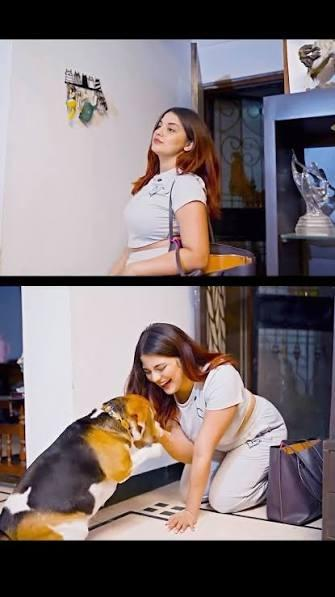adult_dog: (0, 391, 183, 542)
